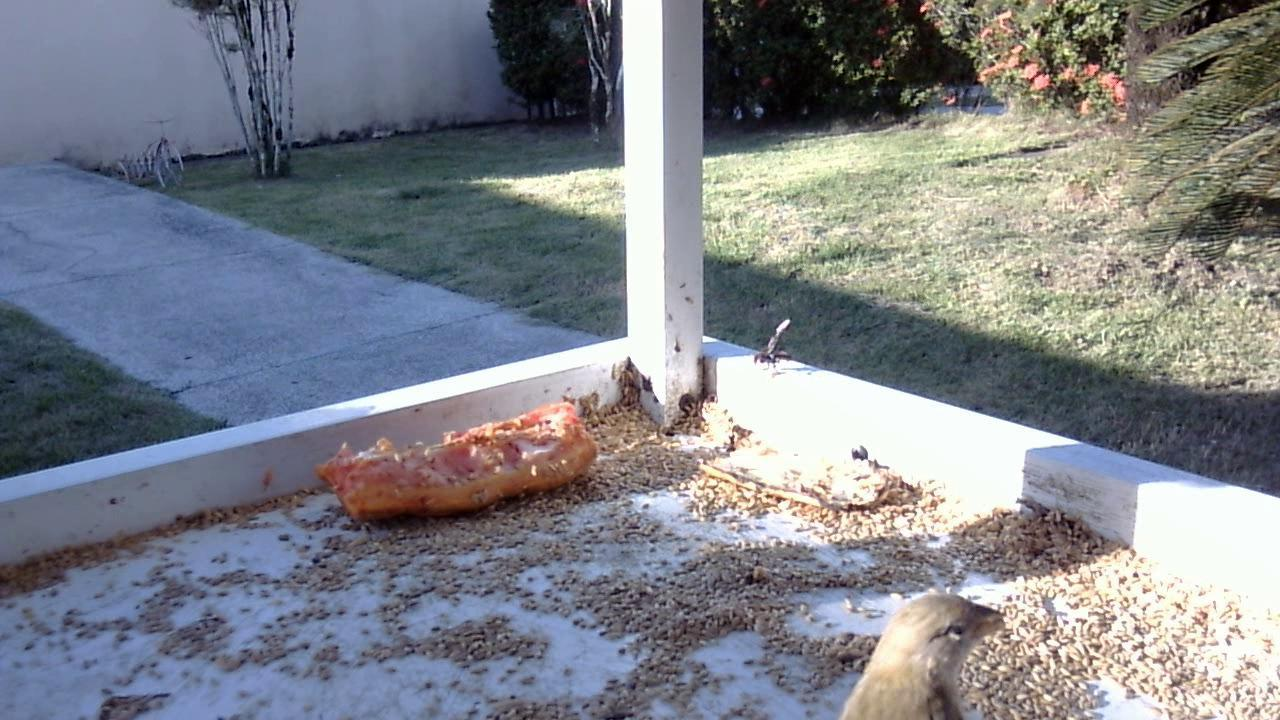canario_do_amazonas: (830, 581, 1005, 716)
